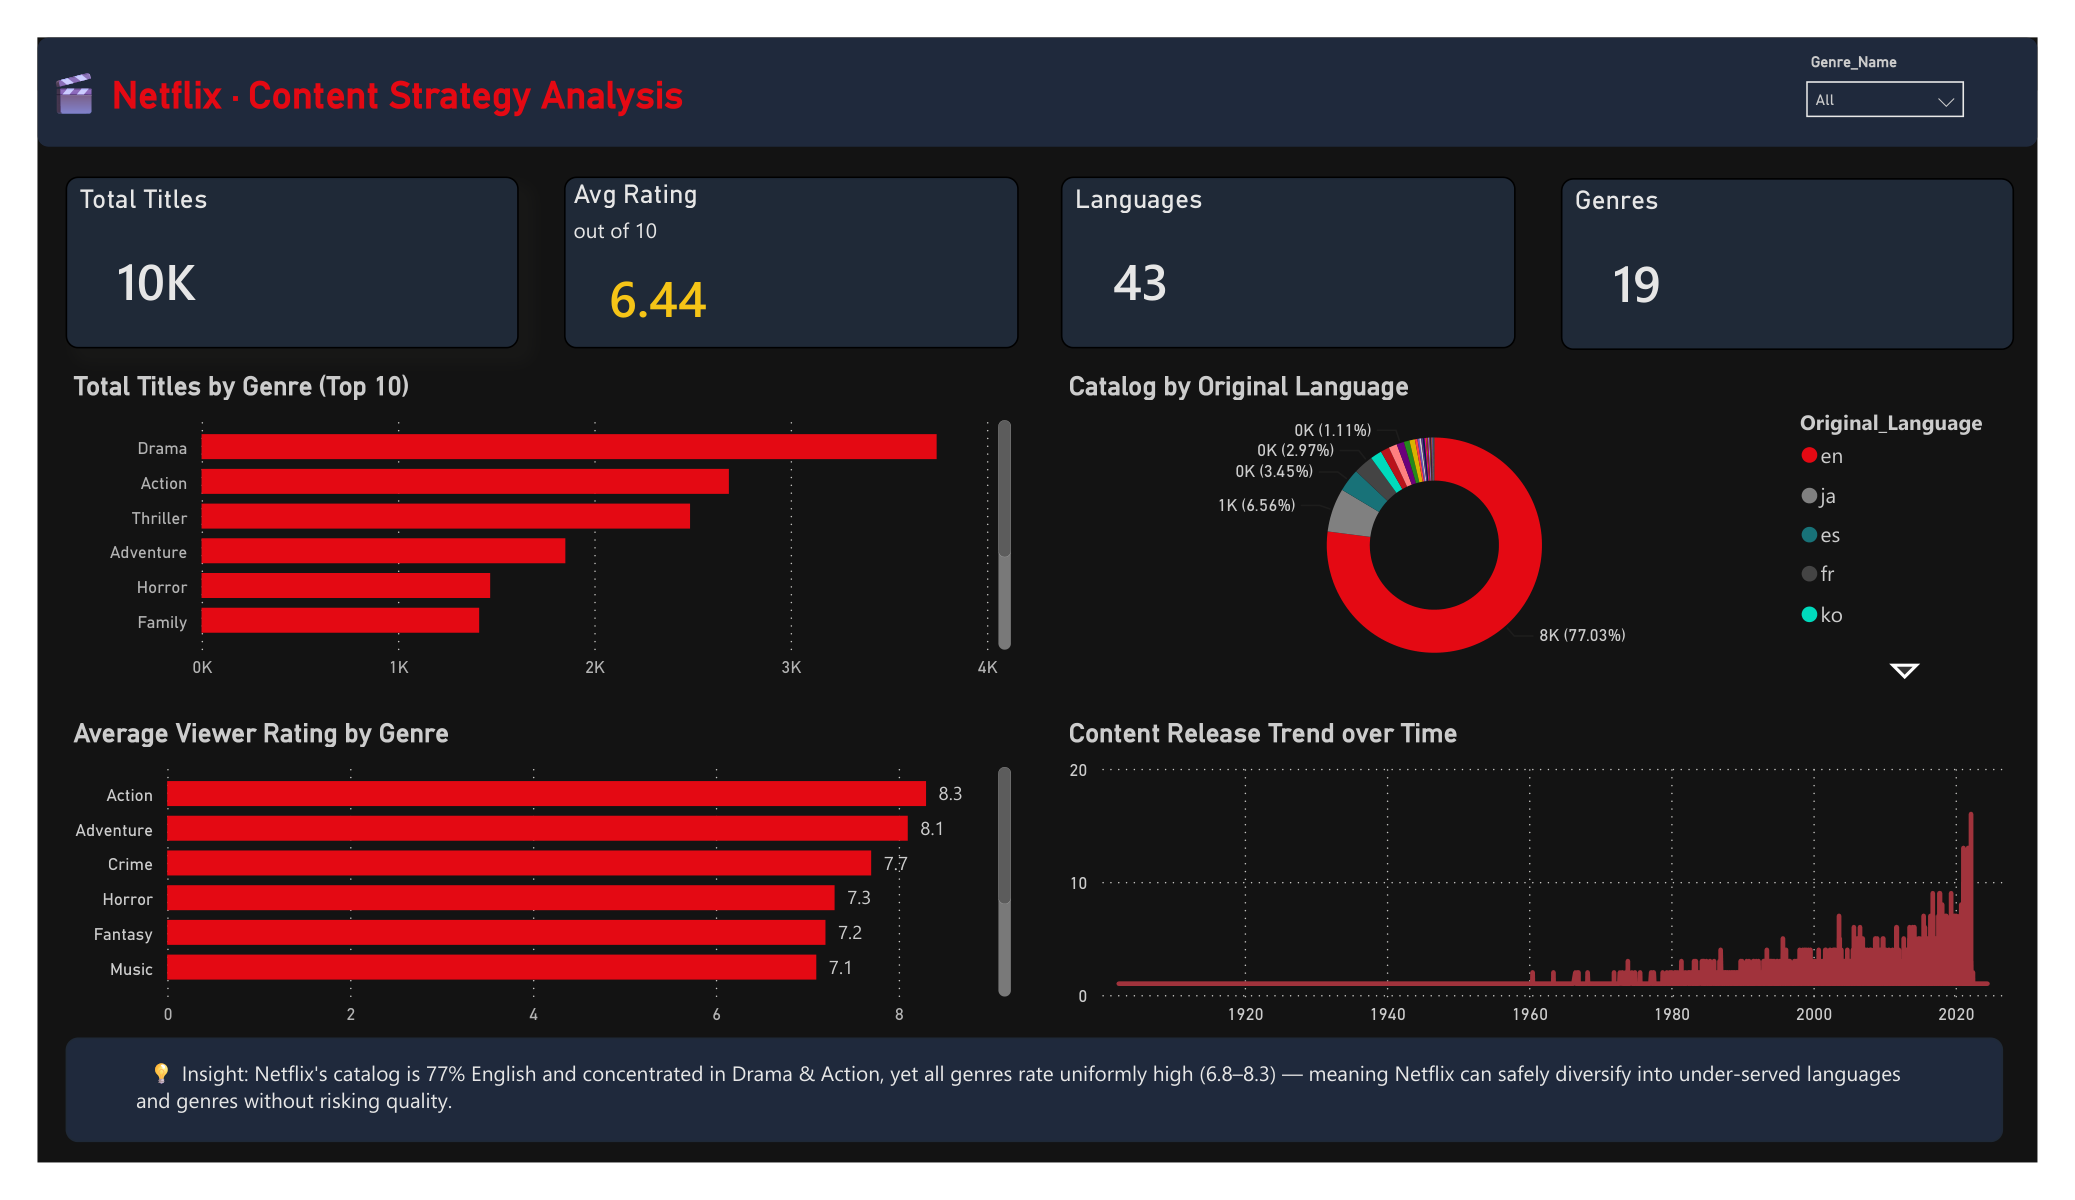

The page's visual inventory and layout, read from the dashboard file:
{"tool":"powerbi","page":{"name":"Page 1","canvas":[1280,720],"ordinal":0},"visuals":[{"type":"shape","box":[0,0,1280,70],"z":0},{"type":"slicer","fields":{"Values":["dim_genres.Genre_Name"]},"box":[1121.7,4.8,121.7,59],"z":1000},{"type":"clusteredBarChart","title":"Top 6 Genres by Title Count","fields":{"Category":["dim_genres.Genre_Name"],"Y":["CountNonNull(Fact_movie_genres.Movie_ID)"]},"box":[18.1,213.3,609.6,204.8],"z":2000},{"type":"clusteredBarChart","title":"Top 6 Genres by Avg Rating","fields":{"Category":["dim_genres.Genre_Name"],"Y":["Avg(dim_movies.Vote_Average)"]},"box":[18.1,434.9,609.6,204],"z":3000},{"type":"textbox","box":[0,10.8,700,46],"z":4000},{"type":"donutChart","title":"Catalog by Original Language","fields":{"Category":["dim_movies.Original_Language"],"Y":["dim_movies.TotalMovies"]},"box":[655.4,213.3,609.6,204.8],"z":5000},{"type":"lineChart","title":"Content Release Trend over Time","fields":{"Category":["dim_movies.Release_Date"],"Y":["dim_movies.TotalMovies"]},"box":[655.4,434.9,609.6,204.8],"z":6000},{"type":"cardVisual","title":"Total Titles","fields":{"Data":["dim_movies.TotalMovies"]},"box":[18.1,89.2,290.4,109.6],"z":7000},{"type":"cardVisual","title":"Languages","fields":{"Data":["dim_movies.LanguageCount"]},"box":[655.4,89.2,290.4,109.6],"z":8000},{"type":"cardVisual","title":"Genres","fields":{"Data":["dim_movies.NumGenres"]},"box":[974.7,90.4,290.4,109.6],"z":9000},{"type":"cardVisual","title":"Avg Rating","fields":{"Data":["dim_movies.AvgRating"]},"box":[337.3,89.2,290.4,109.6],"z":10000},{"type":"shape","box":[18.1,639.8,1239.8,67.5],"z":11000},{"type":"textbox","box":[57.8,649.4,1163.9,49.4],"z":12000}]}

Visuals, with their boxes in screenshot pixels (x1, y1, x2, y2):
shape: BBox(5, 32, 2052, 144)
slicer - dim_genres.Genre_Name: BBox(1799, 40, 1993, 134)
"Top 6 Genres by Title Count" clusteredBarChart: BBox(34, 373, 1009, 701)
"Top 6 Genres by Avg Rating" clusteredBarChart: BBox(34, 728, 1009, 1054)
textbox: BBox(5, 50, 1124, 123)
"Catalog by Original Language" donutChart: BBox(1053, 373, 2028, 701)
"Content Release Trend over Time" lineChart: BBox(1053, 728, 2028, 1055)
"Total Titles" cardVisual: BBox(34, 175, 499, 350)
"Languages" cardVisual: BBox(1053, 175, 1517, 350)
"Genres" cardVisual: BBox(1564, 177, 2028, 352)
"Avg Rating" cardVisual: BBox(545, 175, 1009, 350)
shape: BBox(34, 1055, 2016, 1163)
textbox: BBox(98, 1071, 1959, 1150)
